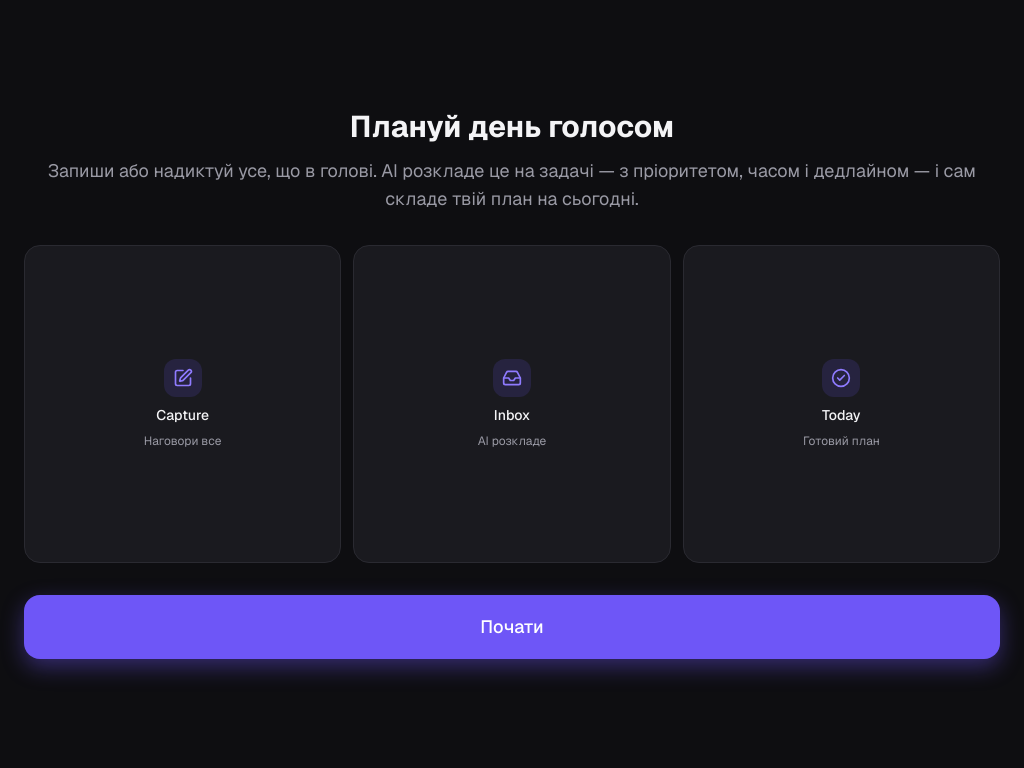
CapturePage › onboarding › hides the overlay, remembers the flag, and focuses the textarea when Почати is clicked
Expected: the heading "Плануй день голосом" is shown, top-left (350, 107), bottom-right (674, 146)
Click the button "Почати" at point(512, 627), box top-left (24, 595), bottom-right (1000, 659)
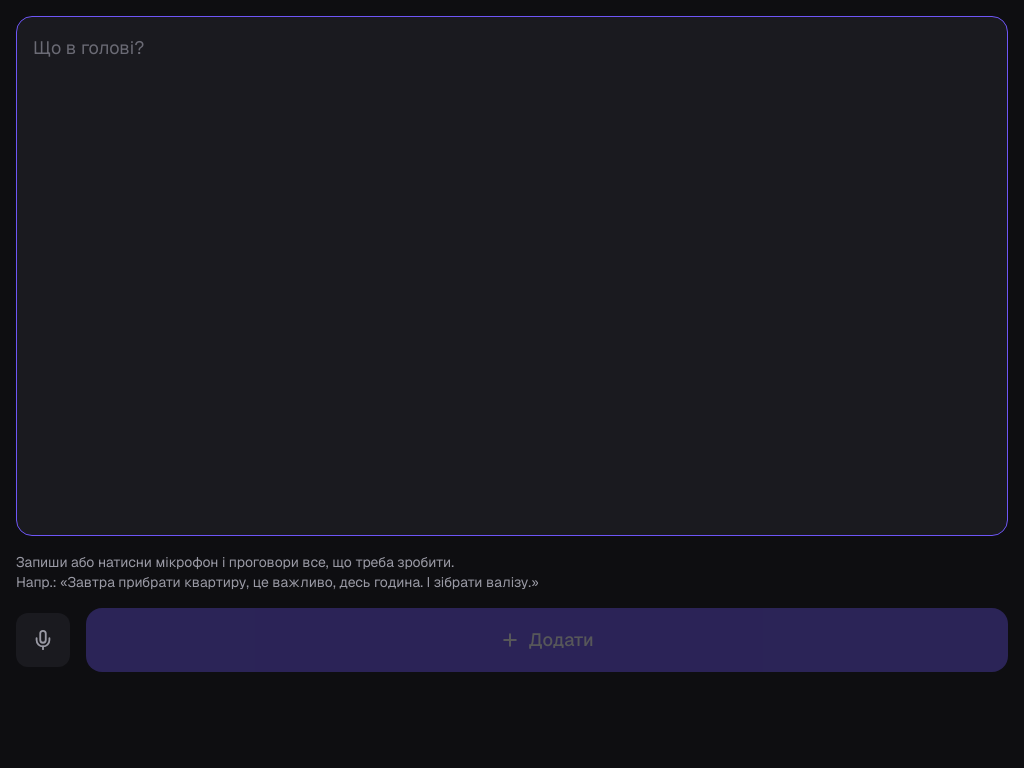
Expected: the heading "Плануй день голосом" is gone
